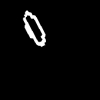chain: (23, 11, 45, 45)
